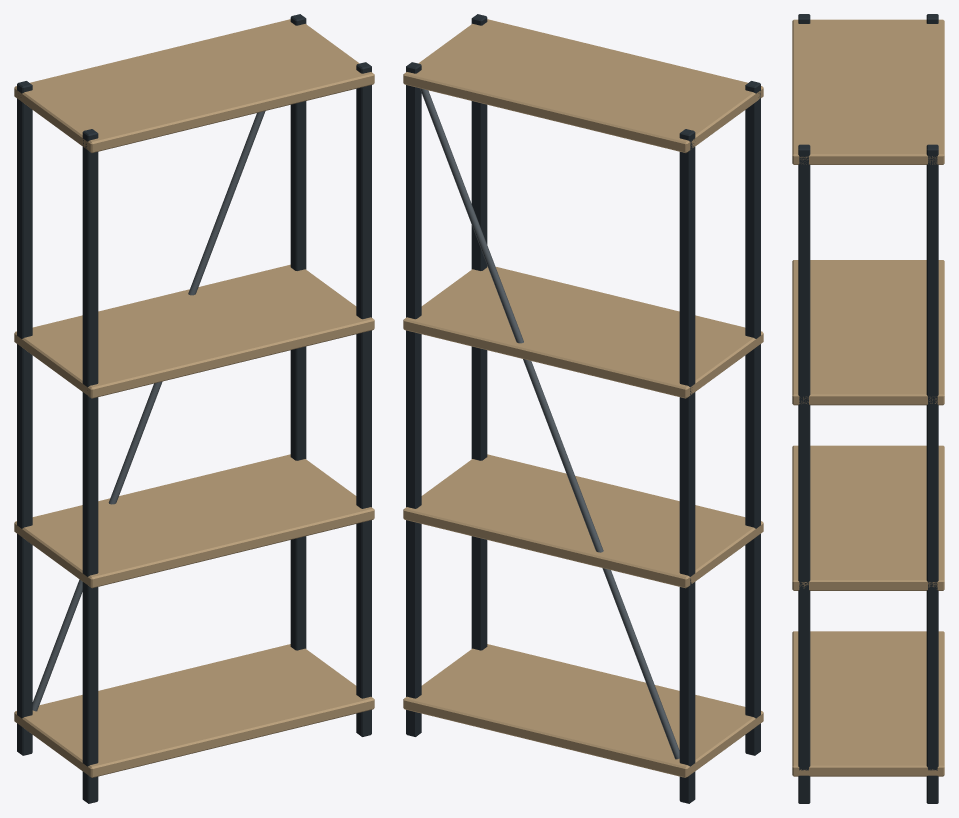
Rendered from shelf_open.glb.
The picture shows the model from 3 angles, left to right: view 1: azimuth 30°, elevation 25°; view 2: azimuth 150°, elevation 25°; view 3: azimuth 270°, elevation 25°; orthographic projection. The views are drawn at different scales.
Visible parts, largest first — view 1: shelf_open; view 2: shelf_open; view 3: shelf_open.
Part boxes in pixels (box(x1,y1,x2,y2)): shelf_open: box(14, 14, 374, 803); shelf_open: box(403, 14, 763, 803); shelf_open: box(792, 14, 944, 803).
Size of the model in its own units: 0.8 by 1.8 by 0.38.
